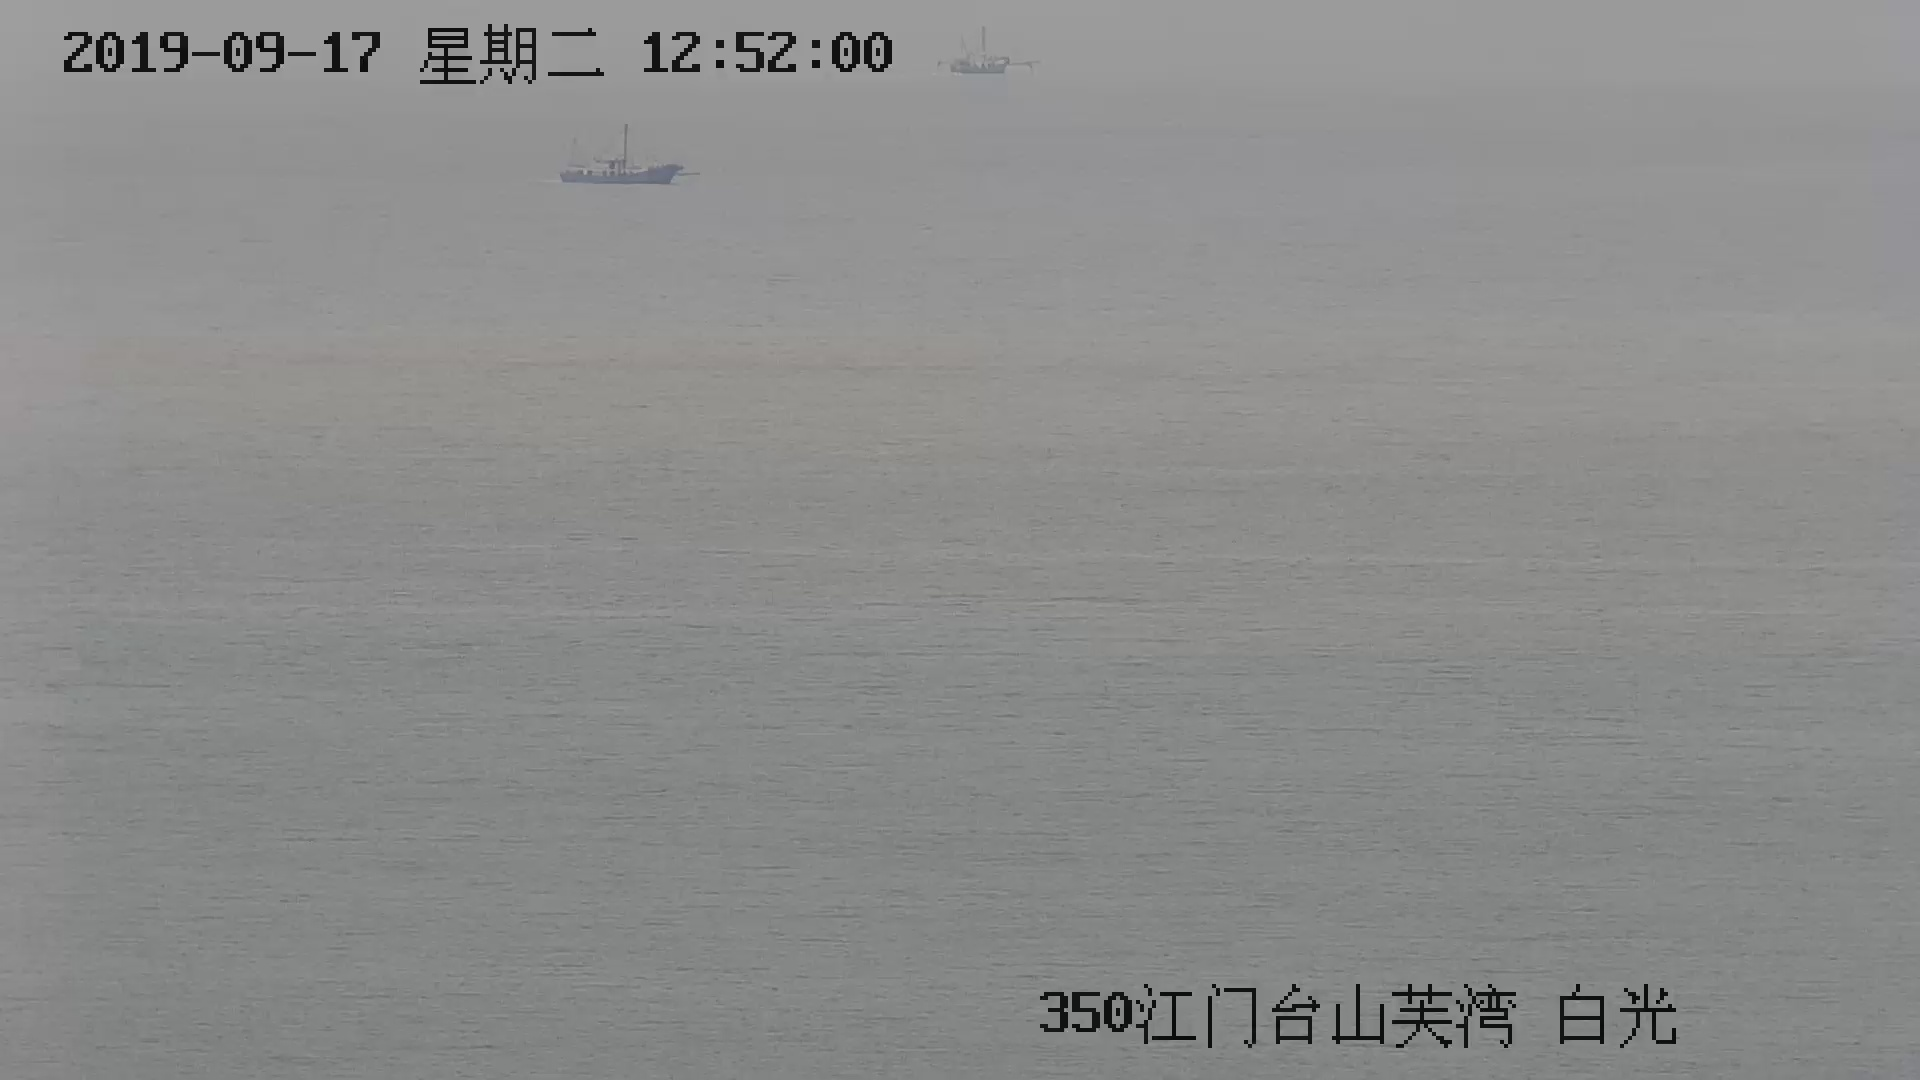ship: (556, 125, 688, 189), (934, 28, 1025, 76)
